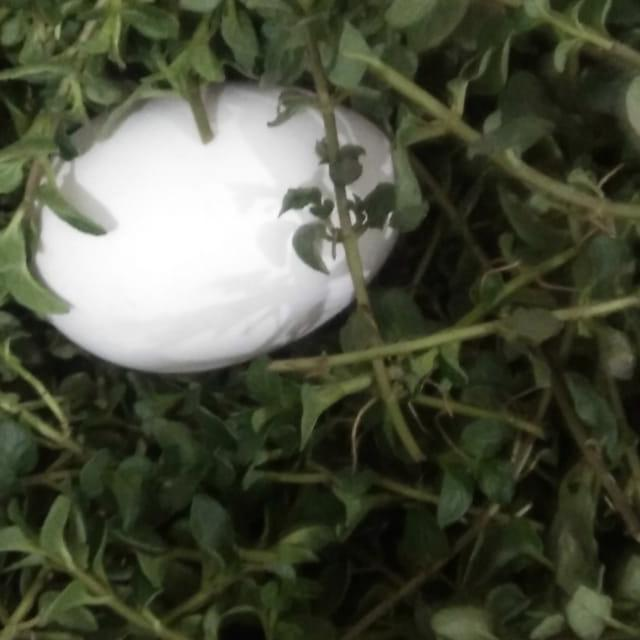egg: (22, 76, 402, 375)
